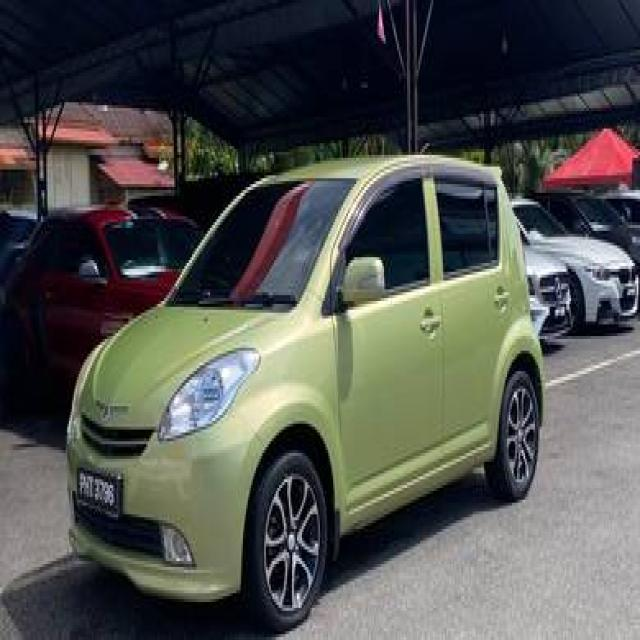PeroduaMyvi: (64, 149, 546, 631)
